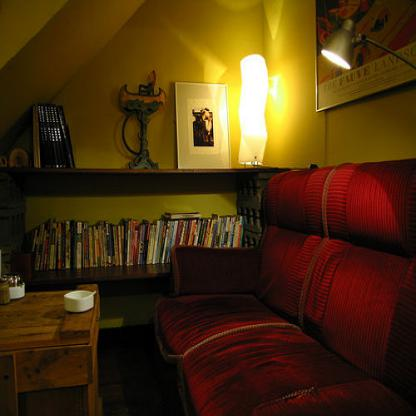sofa: (152, 155, 415, 415)
